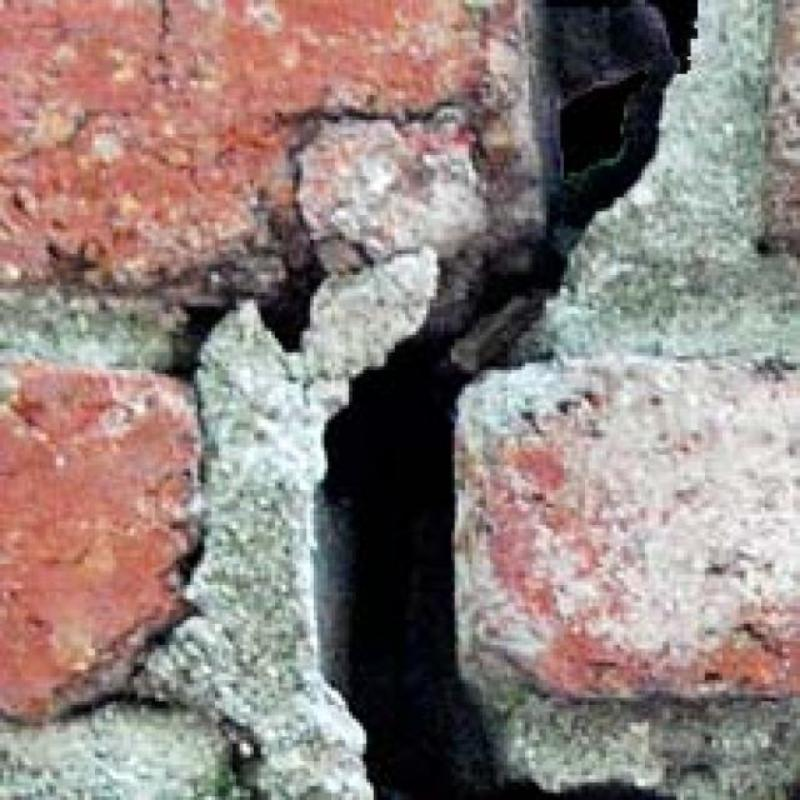pothole: (319, 0, 695, 800), (52, 536, 202, 723), (169, 223, 325, 380), (560, 781, 677, 800)
